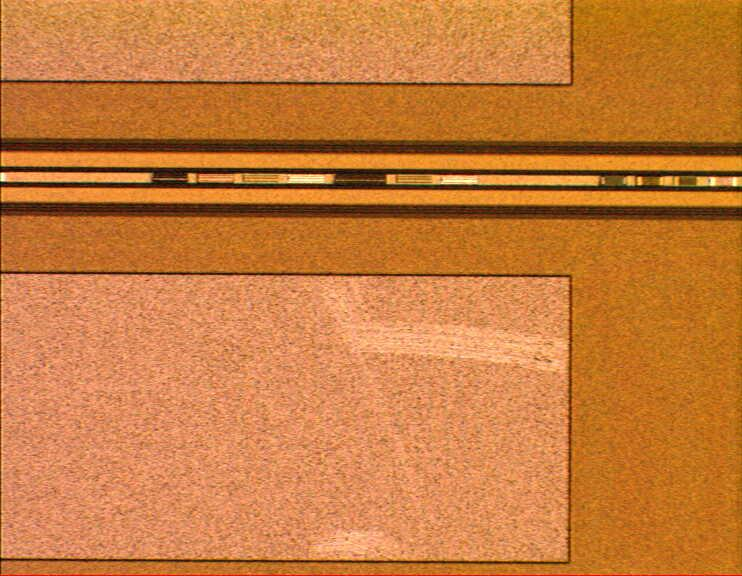SCRATCH: (303, 269, 585, 576)
